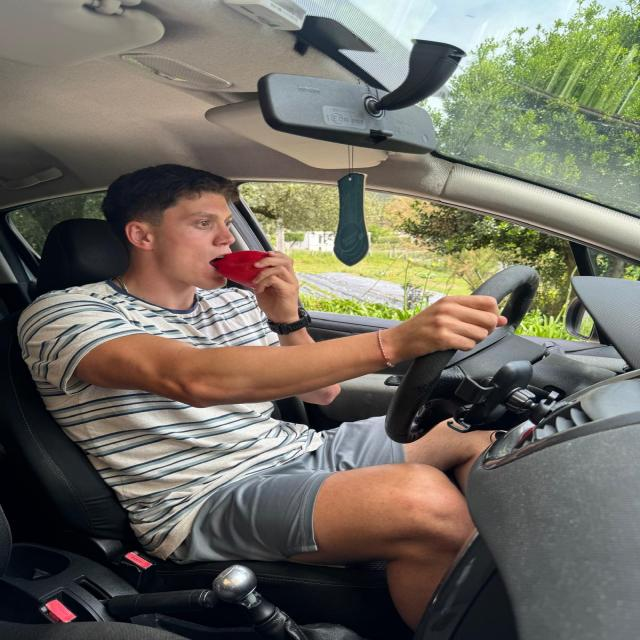Eating: (200, 235, 304, 325)
